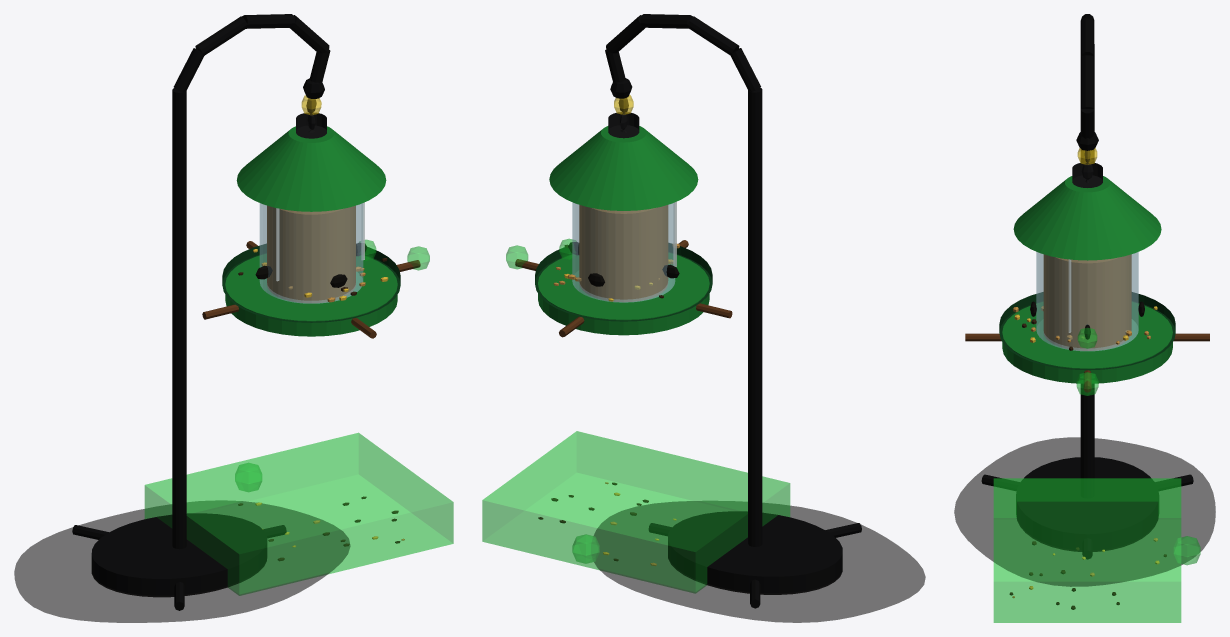
Rendered from hanging_bird_feeder_with_stand.obj.
3 renders of one model, left to right at view 1: azimuth 30°, elevation 25°; view 2: azimuth 150°, elevation 25°; view 3: azimuth 270°, elevation 25°, orthographic.
Visible parts, largest first — view 1: Guide_Scent_Source_Seed_Area_delete_or_hide, Soft_ground_shadow_under_stand, Round_weighted_ground_base, Clear_seed_reservoir_tube, Green_conical_feeder_roof_cap, Green_bottom_seed_tray, Visible_seed_column_inside, Vertical_shepherd_hook_stand_pole, Raised_tray_outer_lip, Curved_shepherd_hook_top_segment_02, Curved_shepherd_hook_top_segment_03, Guide_Dog_Sniff_SpilledSeed_Point (+3 smaller); view 2: Guide_Scent_Source_Seed_Area_delete_or_hide, Soft_ground_shadow_under_stand, Round_weighted_ground_base, Clear_seed_reservoir_tube, Green_conical_feeder_roof_cap, Visible_seed_column_inside, Green_bottom_seed_tray, Vertical_shepherd_hook_stand_pole, Raised_tray_outer_lip, Curved_shepherd_hook_top_segment_02, Curved_shepherd_hook_top_segment_03, Guide_Dog_Sniff_SpilledSeed_Point (+3 smaller); view 3: Guide_Scent_Source_Seed_Area_delete_or_hide, Soft_ground_shadow_under_stand, Round_weighted_ground_base, Clear_seed_reservoir_tube, Green_conical_feeder_roof_cap, Visible_seed_column_inside, Green_bottom_seed_tray, Vertical_shepherd_hook_stand_pole, Raised_tray_outer_lip, Curved_shepherd_hook_top_segment_04, Guide_Dog_Sniff_SpilledSeed_Point, Top_small_hanging_loop (+5 smaller).
Boxes of the visible parts, x1,y1,x2,y2 form: Guide_Scent_Source_Seed_Area_delete_or_hide: (144,432,453,595); Soft_ground_shadow_under_stand: (14,500,350,622); Round_weighted_ground_base: (91,513,267,596); Clear_seed_reservoir_tube: (259,203,363,303); Green_conical_feeder_roof_cap: (236,126,386,211); Green_bottom_seed_tray: (225,253,397,336); Visible_seed_column_inside: (267,205,355,302); Vertical_shepherd_hook_stand_pole: (172,88,186,549); Raised_tray_outer_lip: (222,243,400,322); Curved_shepherd_hook_top_segment_02: (195,16,247,55); Curved_shepherd_hook_top_segment_03: (242,14,294,28); Guide_Dog_Sniff_SpilledSeed_Point: (235,463,261,491); Guide_Scent_Source_Seed_Area_delete_or_hide: (482,431,790,593); Soft_ground_shadow_under_stand: (594,501,925,622); Round_weighted_ground_base: (668,511,842,594); Clear_seed_reservoir_tube: (572,202,675,302); Green_conical_feeder_roof_cap: (549,126,698,210); Visible_seed_column_inside: (579,205,668,301); Green_bottom_seed_tray: (538,253,709,335); Vertical_shepherd_hook_stand_pole: (748,87,762,546); Raised_tray_outer_lip: (535,243,712,321); Curved_shepherd_hook_top_segment_02: (687,16,739,55); Curved_shepherd_hook_top_segment_03: (640,14,692,28); Guide_Dog_Sniff_SpilledSeed_Point: (572,534,599,563); Guide_Scent_Source_Seed_Area_delete_or_hide: (993,478,1181,622); Soft_ground_shadow_under_stand: (954,437,1215,586); Round_weighted_ground_base: (1016,457,1158,551); Clear_seed_reservoir_tube: (1036,252,1138,351); Green_conical_feeder_roof_cap: (1013,176,1161,260); Visible_seed_column_inside: (1043,254,1131,350); Green_bottom_seed_tray: (1002,302,1172,383); Vertical_shepherd_hook_stand_pole: (1080,44,1094,498); Raised_tray_outer_lip: (999,292,1175,370); Curved_shepherd_hook_top_segment_04: (1080,55,1094,108); Guide_Dog_Sniff_SpilledSeed_Point: (1174,536,1200,565); Top_small_hanging_loop: (1072,162,1102,187).
Size of what is drawn, in the model's own units: 1.63 by 2.04 by 0.92.
